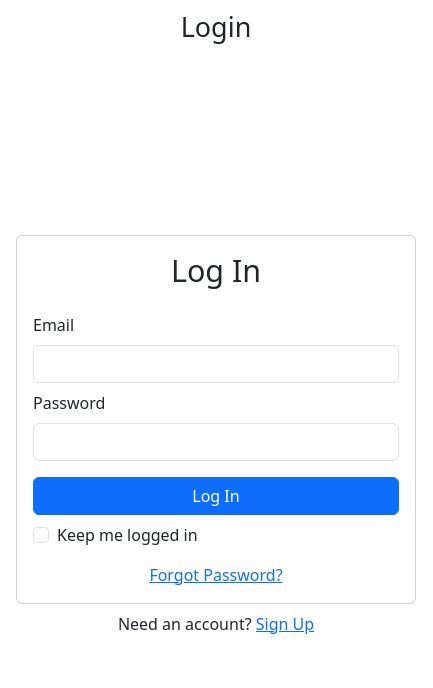
Test: Authentication Components › Login › shows login error
Type "user@example.com" into the field at (216, 364), box [33, 345, 399, 383]
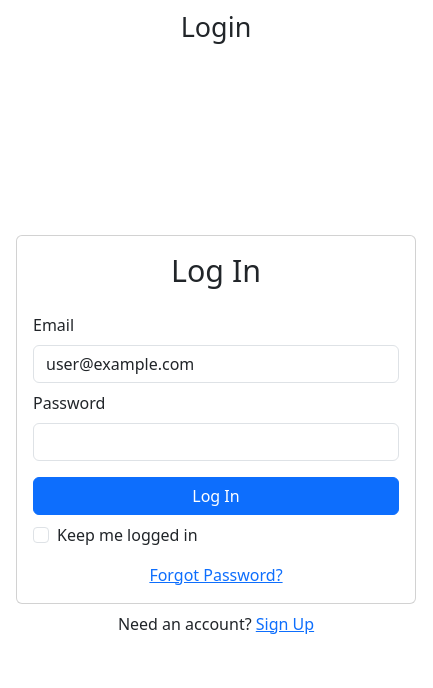
Type "wrongpass" into the password field at (216, 442), box [33, 423, 399, 461]
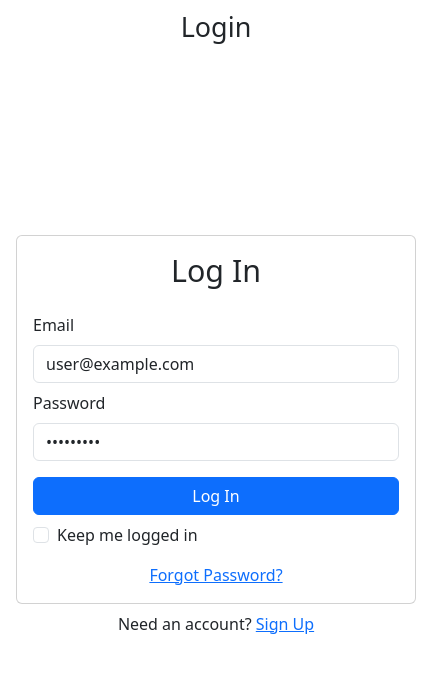
Click the button "Log In" at (216, 496), box [33, 477, 399, 515]
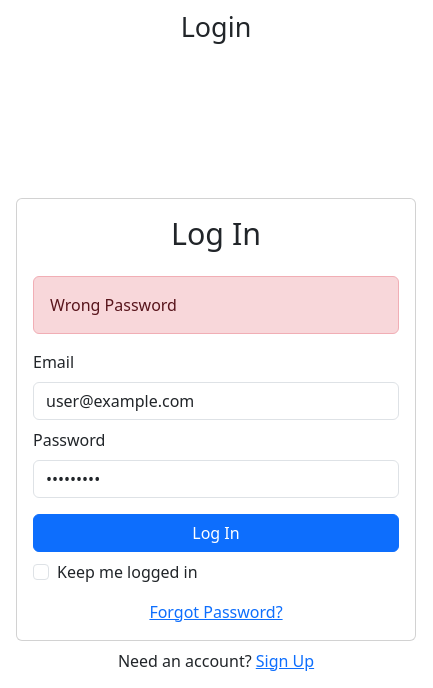
Check: the text "Wrong Password" is shown, box [33, 276, 399, 334]
